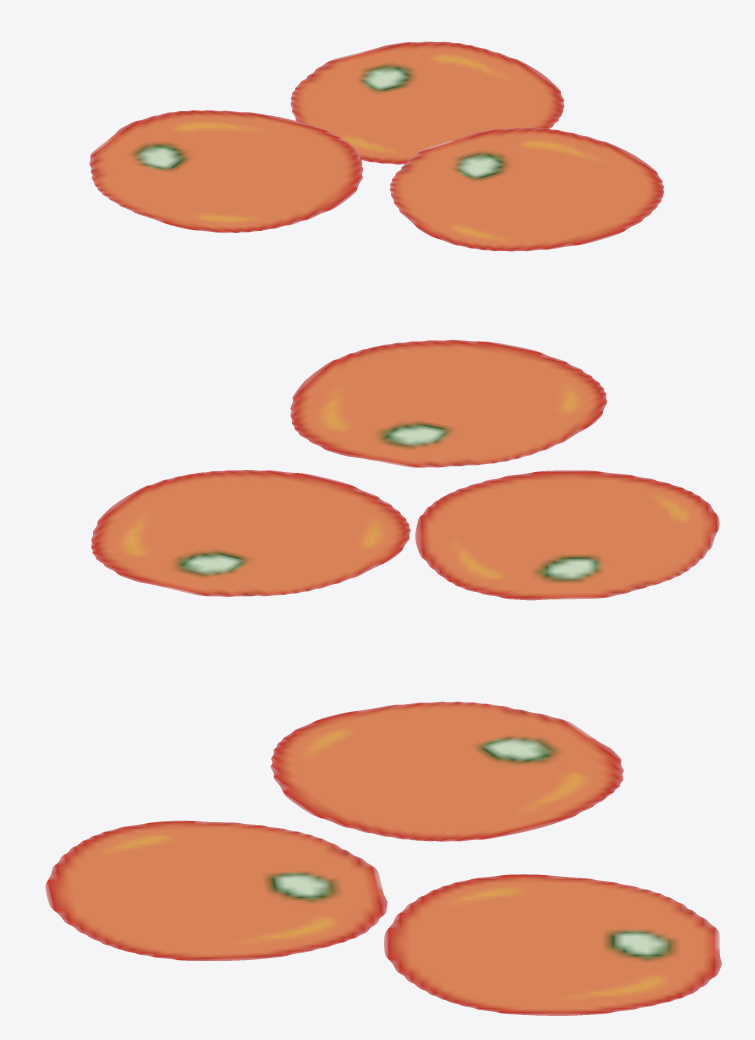
File: giftgoods111g.fbx
The picture shows the model from 3 angles, top to bottom: view 1: azimuth 30°, elevation 25°; view 2: azimuth 150°, elevation 25°; view 3: azimuth 270°, elevation 25°; orthographic projection. The views are drawn at different scales.
Parts seen in each view (by area): view 1: giftgoods111g; view 2: giftgoods111g; view 3: giftgoods111g.
Part boxes in pixels (left/top/right/bottom): giftgoods111g: left=89, top=41, right=663, bottom=251; giftgoods111g: left=91, top=339, right=719, bottom=600; giftgoods111g: left=45, top=701, right=721, bottom=1015.
Bounding box in the file's own units: 0.5264 × 0.0229 × 0.4849.
